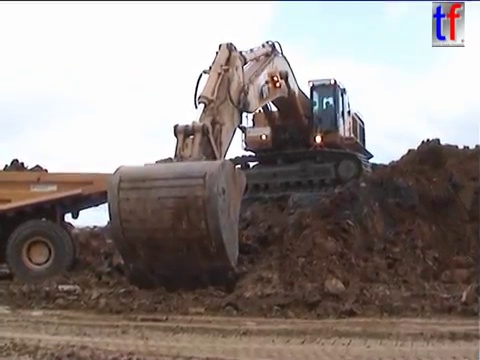excavator: (104, 37, 376, 295)
truck: (1, 166, 157, 289)
